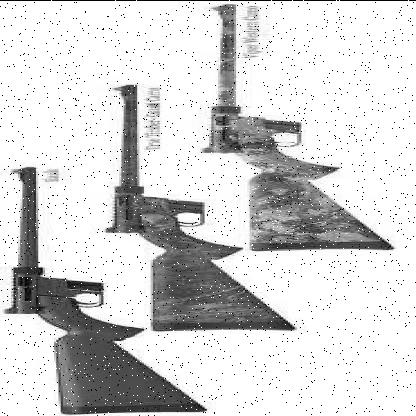rifle: (169, 4, 412, 262), (88, 73, 295, 344), (0, 145, 194, 416)
